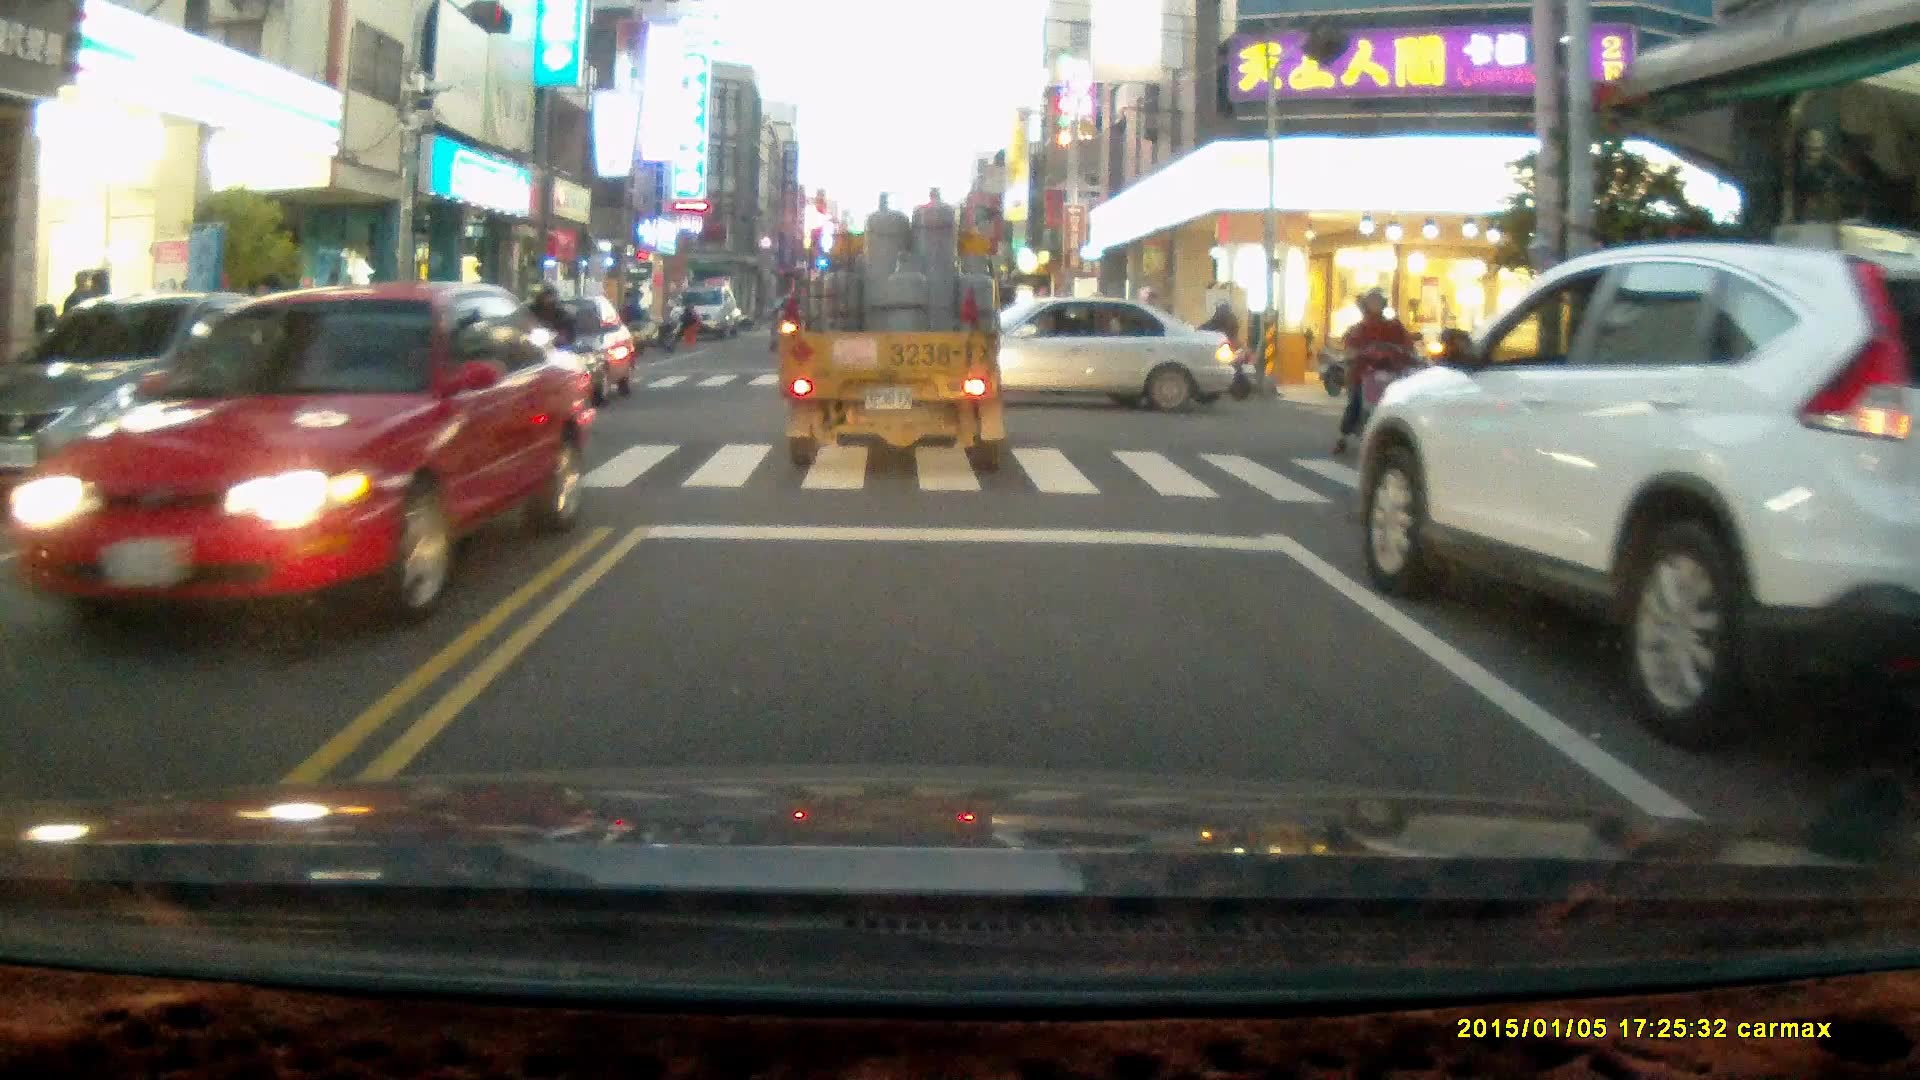rider: (1327, 281, 1427, 471), (1164, 294, 1257, 399)
vehicle: (1349, 238, 1920, 758), (24, 276, 585, 631), (780, 191, 1016, 467), (903, 294, 1238, 413), (670, 284, 738, 336)
